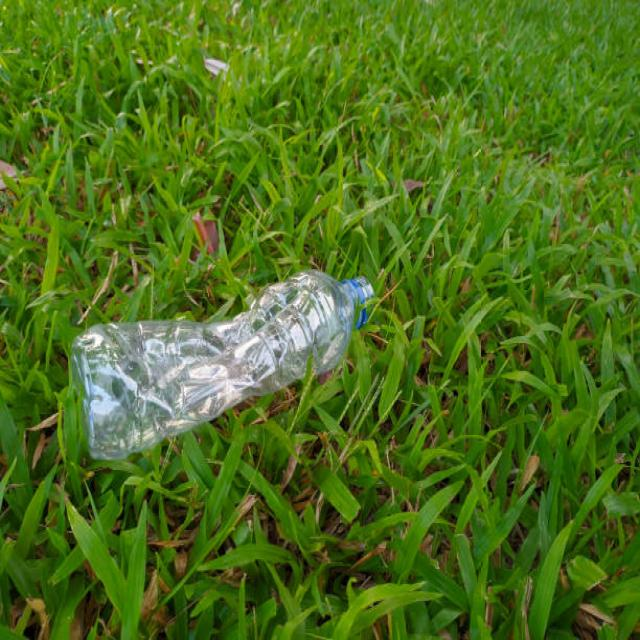plastic: (77, 275, 376, 460)
